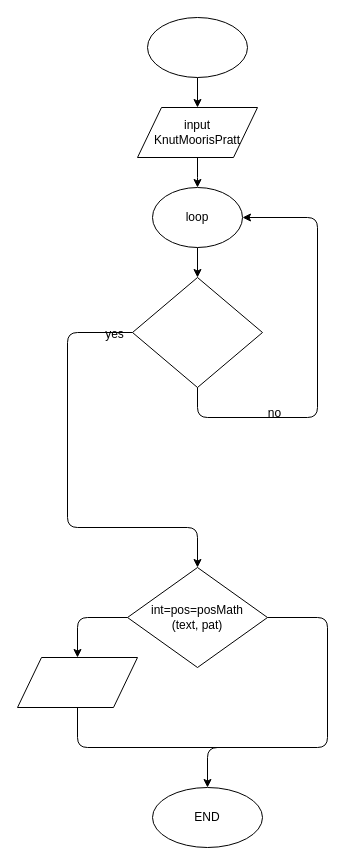
Some shapes in this 353 by 865 pixel diagram are drawn without their labels. Each missing label, with the centre of its shape:
faillure=new int[pat.length]: [197,332]
START: [197,47]
